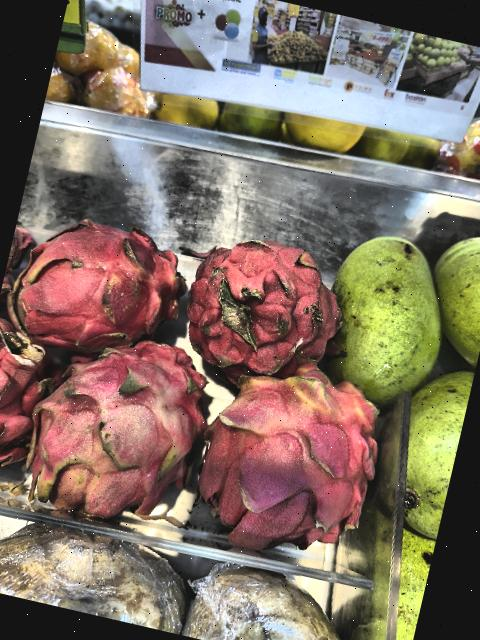buah-naga-belum-matang: (190, 357, 400, 568), (31, 316, 223, 538)
buah-naga-matang: (167, 222, 362, 386), (4, 204, 200, 360), (0, 312, 65, 499)
